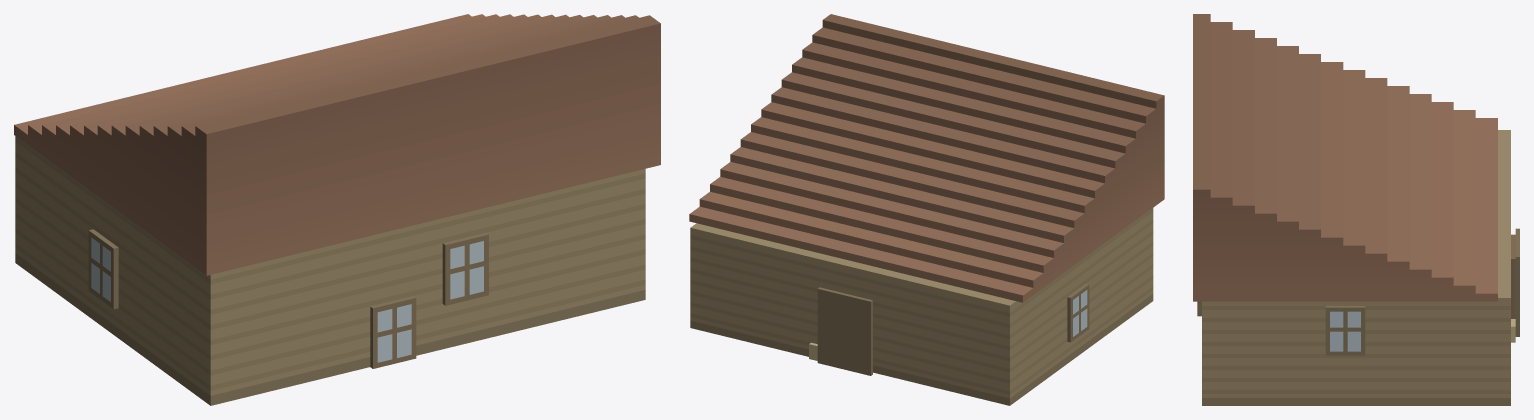
Rendered from molino_agua_04.glb.
3 views of the same model, side by side, from view 1: azimuth 30°, elevation 25°; view 2: azimuth 150°, elevation 25°; view 3: azimuth 270°, elevation 25° (orthographic). The views are drawn at different scales.
Visible parts, largest first — view 1: molino_agua_04; view 2: molino_agua_04; view 3: molino_agua_04.
Part boxes in pixels (x1,y1,x2,y2): molino_agua_04: (14, 14, 660, 405); molino_agua_04: (689, 14, 1164, 405); molino_agua_04: (1193, 14, 1519, 405).
Bounding box in the file's own units: 9.4 × 5.5 × 7.4.
